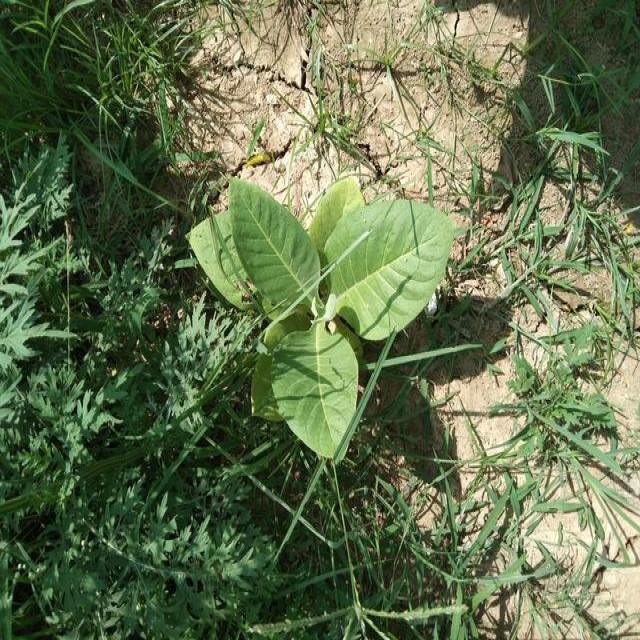crop: (180, 166, 458, 447)
